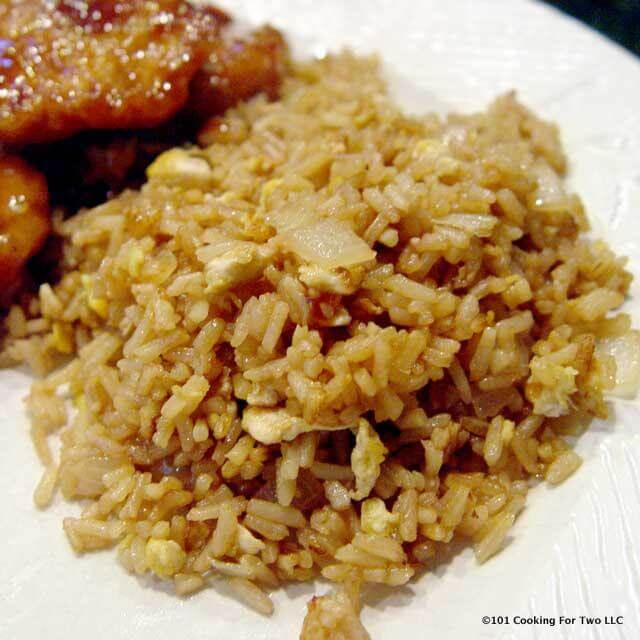plain rice: (53, 68, 628, 612)
